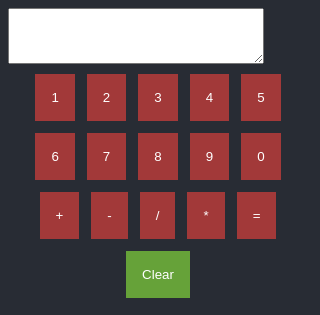
Test: should do a simple operation and clear the screen
This screenshot has width=320, height=315.
Click the button with test id "3".
click(158, 98)  # box [138,74,178,121]
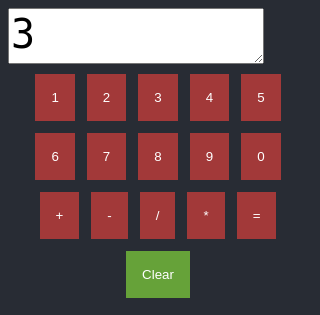
Click the button with test id "*".
click(206, 216)  # box [188,192,225,239]
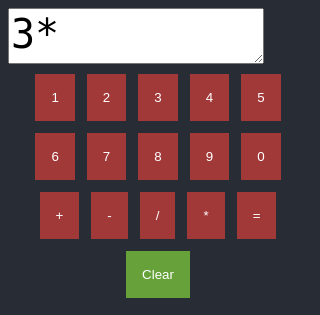
Click the button with test id "3".
click(158, 98)  # box [138,74,178,121]
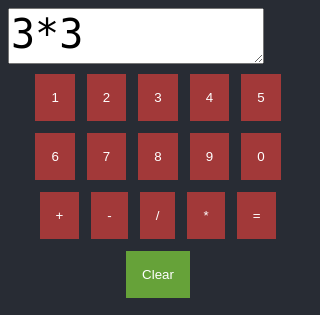
Click the button with test id "=".
click(257, 216)  # box [237,192,276,239]
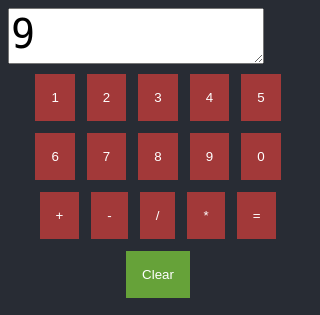
Click the button with test id "clear".
click(158, 274)  # box [126,251,190,298]
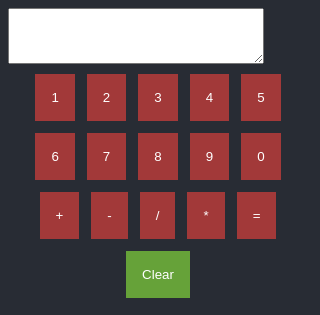
Now the text box with test id "screen" is empty, box [8,8,264,64]
